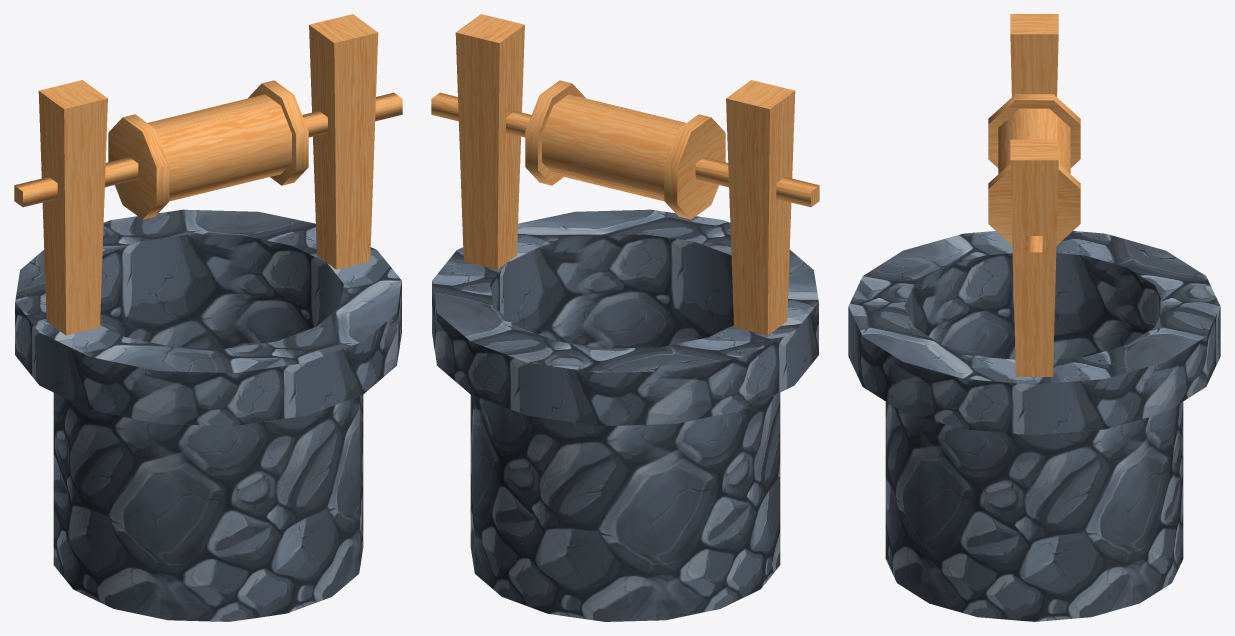
Rendered from FRM0510014.fbx.
The picture shows the model from 3 angles, left to right: view 1: azimuth 30°, elevation 25°; view 2: azimuth 150°, elevation 25°; view 3: azimuth 270°, elevation 25°; orthographic projection. The views are drawn at different scales.
Parts seen in each view (by area): view 1: smFRM0510014; view 2: smFRM0510014; view 3: smFRM0510014.
Boxes of the visible parts, x1=… form: smFRM0510014: x1=14, y1=14, x2=402, y2=621; smFRM0510014: x1=431, y1=14, x2=819, y2=621; smFRM0510014: x1=848, y1=14, x2=1220, y2=621.
Bounding box in the file's own units: 183 × 228 × 163.
1 material, 1 textured.
